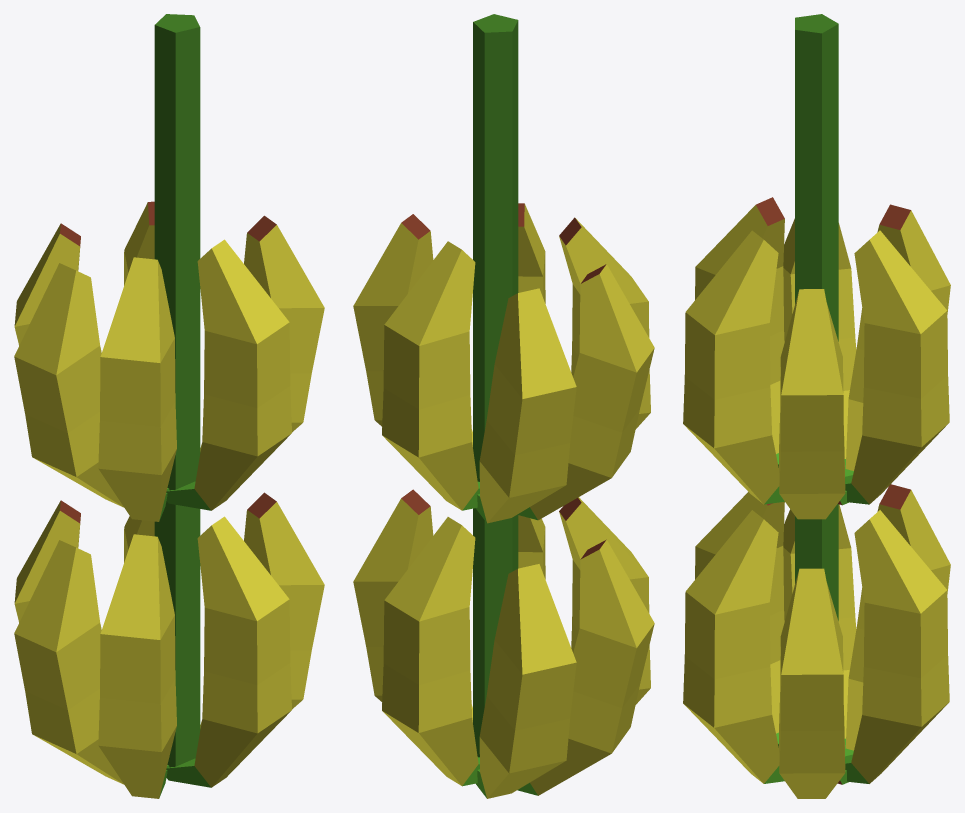
Rendered from bananas.fbx.
The picture shows the model from 3 angles, left to right: view 1: azimuth 30°, elevation 25°; view 2: azimuth 150°, elevation 25°; view 3: azimuth 270°, elevation 25°; orthographic projection.
Visible parts, largest first — view 1: bananas; view 2: bananas; view 3: bananas.
Part boxes in pixels (x1,y1,x2,y2): bananas: (14, 14, 324, 798); bananas: (353, 14, 654, 798); bananas: (683, 14, 950, 798).
Size of the model in its own units: 44.51 by 113 by 36.19.
